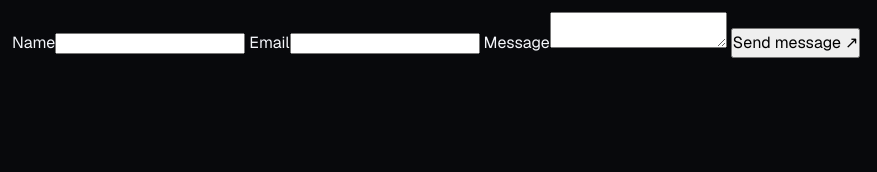
Test case: EmailJS contact bridge › preserves values and announces a failed request
This screenshot has width=877, height=172.
Type "  Akshay Visitor  " into the field labelled "Name".
click(150, 44); type("  Akshay Visitor  ")  # box [55, 33, 245, 54]
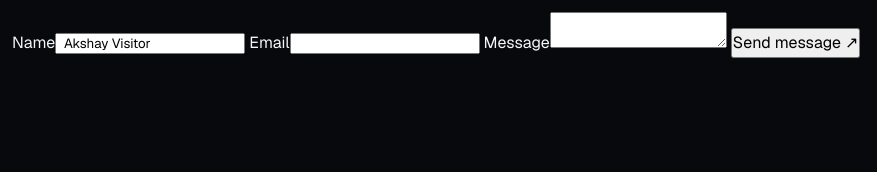
Type "  visitor@example.com  " into the field labelled "Email".
click(384, 44); type("  visitor@example.com  ")  # box [290, 33, 480, 54]
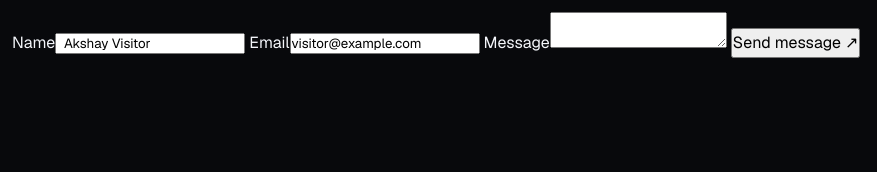
Type "  A useful message  " into the text box labelled "Message".
click(638, 30); type("  A useful message  ")  # box [550, 12, 727, 48]
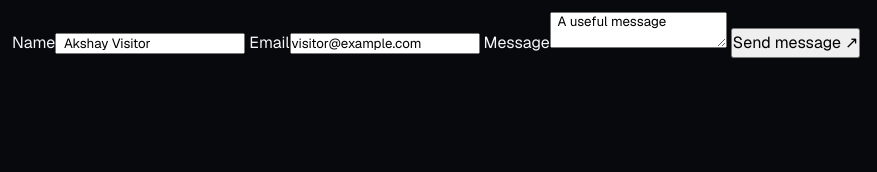
Submit the form with id "conversationForm", box [12, 12, 860, 58]
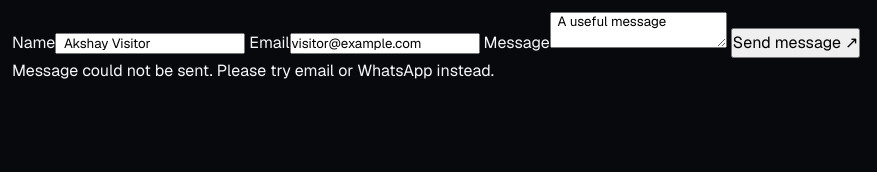
Check: the button is enabled, box [731, 28, 860, 58]
Check: the message reads "Message could not be sent. Please try email or WhatsApp instead.", box [12, 60, 494, 81]
